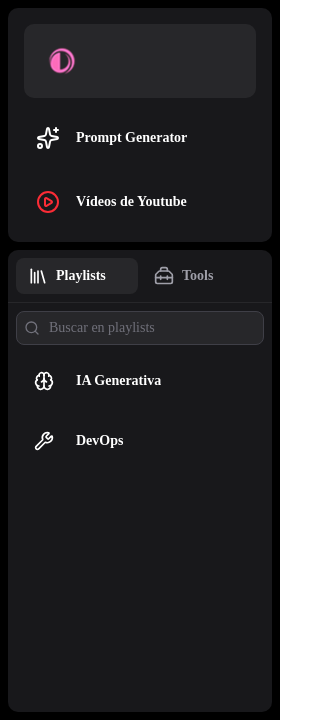
Scenario: Sidebar › filters playlists by name
Type "devops" into the field with placeholder "Buscar en playlists" at (140, 328), box [16,311,264,345]
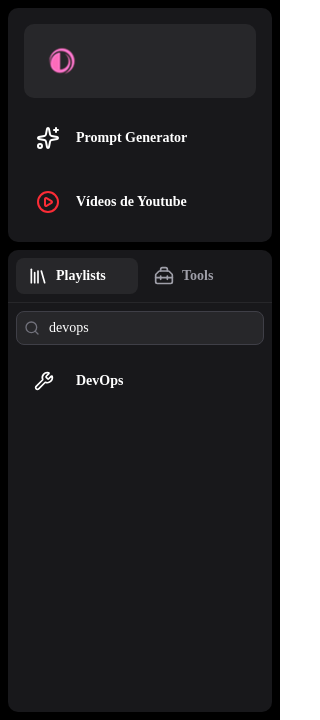
Expected: the link "DevOps" is shown, [34,371,124,391]
Expected: the link "IA Generativa" is gone
